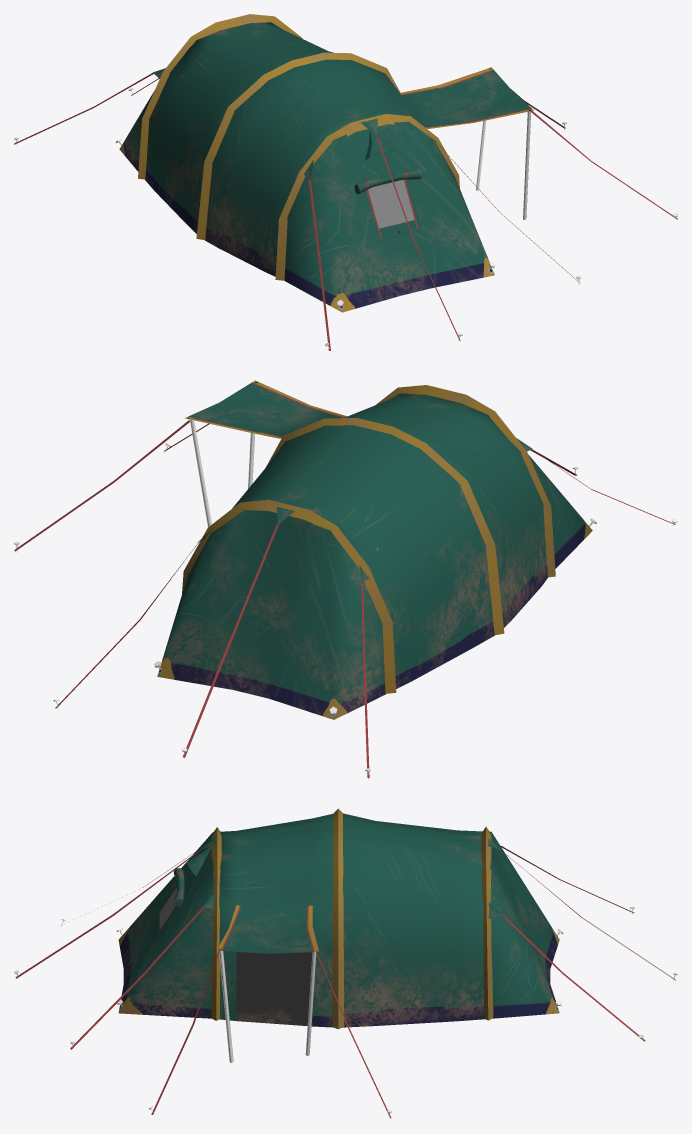
Rendered from tent.glb.
The picture shows the model from 3 angles, top to bottom: view 1: azimuth 30°, elevation 25°; view 2: azimuth 150°, elevation 25°; view 3: azimuth 270°, elevation 25°; orthographic projection. The views are drawn at different scales.
Visible parts, largest first — view 1: polySurface10, polySurface3, pCube7, polySurface4, polySurface5, pCylinder1, pCylinder5; view 2: polySurface10, polySurface5, polySurface3, polySurface4, pCylinder8, pCylinder10, pCylinder11; view 3: polySurface10, polySurface3, polySurface5, polySurface4, pCylinder11, pCylinder8, pCube3, pCube7, pCylinder9, pCube8, polySurface14.
Boxes of the visible parts, bbox=[...] form: polySurface10: bbox=[119, 22, 533, 312]; polySurface3: bbox=[196, 52, 400, 240]; pCube7: bbox=[366, 179, 422, 242]; polySurface4: bbox=[275, 114, 459, 280]; polySurface5: bbox=[138, 14, 302, 179]; pCylinder1: bbox=[354, 169, 421, 194]; pCylinder5: bbox=[308, 178, 330, 350]; polySurface10: bbox=[157, 380, 592, 719]; polySurface5: bbox=[182, 499, 396, 693]; polySurface3: bbox=[266, 418, 504, 635]; polySurface4: bbox=[376, 385, 555, 577]; pCylinder8: bbox=[53, 542, 370, 778]; pCylinder10: bbox=[182, 522, 279, 757]; pCylinder11: bbox=[14, 382, 256, 552]; polySurface10: bbox=[118, 813, 559, 1027]; polySurface3: bbox=[332, 808, 343, 1029]; polySurface5: bbox=[481, 826, 493, 1020]; polySurface4: bbox=[211, 827, 221, 1020]; pCylinder11: bbox=[149, 949, 392, 1118]; pCylinder8: bbox=[501, 846, 645, 1041]; pCube3: bbox=[219, 950, 233, 1062]; pCube7: bbox=[152, 886, 177, 942]; pCylinder9: bbox=[14, 849, 201, 978]; pCube8: bbox=[305, 950, 316, 1055]; polySurface14: bbox=[70, 906, 203, 1049].
Size of the model in its own units: 3.66 by 1.34 by 4.94.
1 material, 1 textured.
